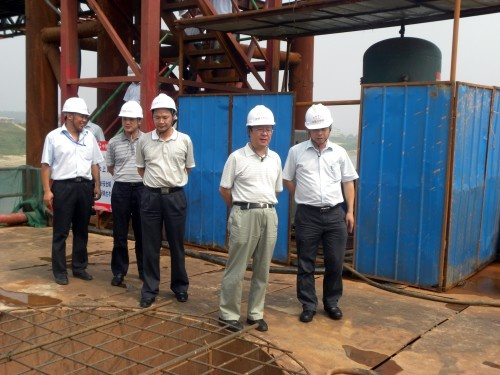white: (245, 103, 280, 148), (305, 99, 333, 143), (149, 94, 180, 130), (117, 98, 145, 134), (61, 96, 89, 130)
